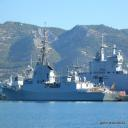Fragata: (2, 22, 123, 103)
